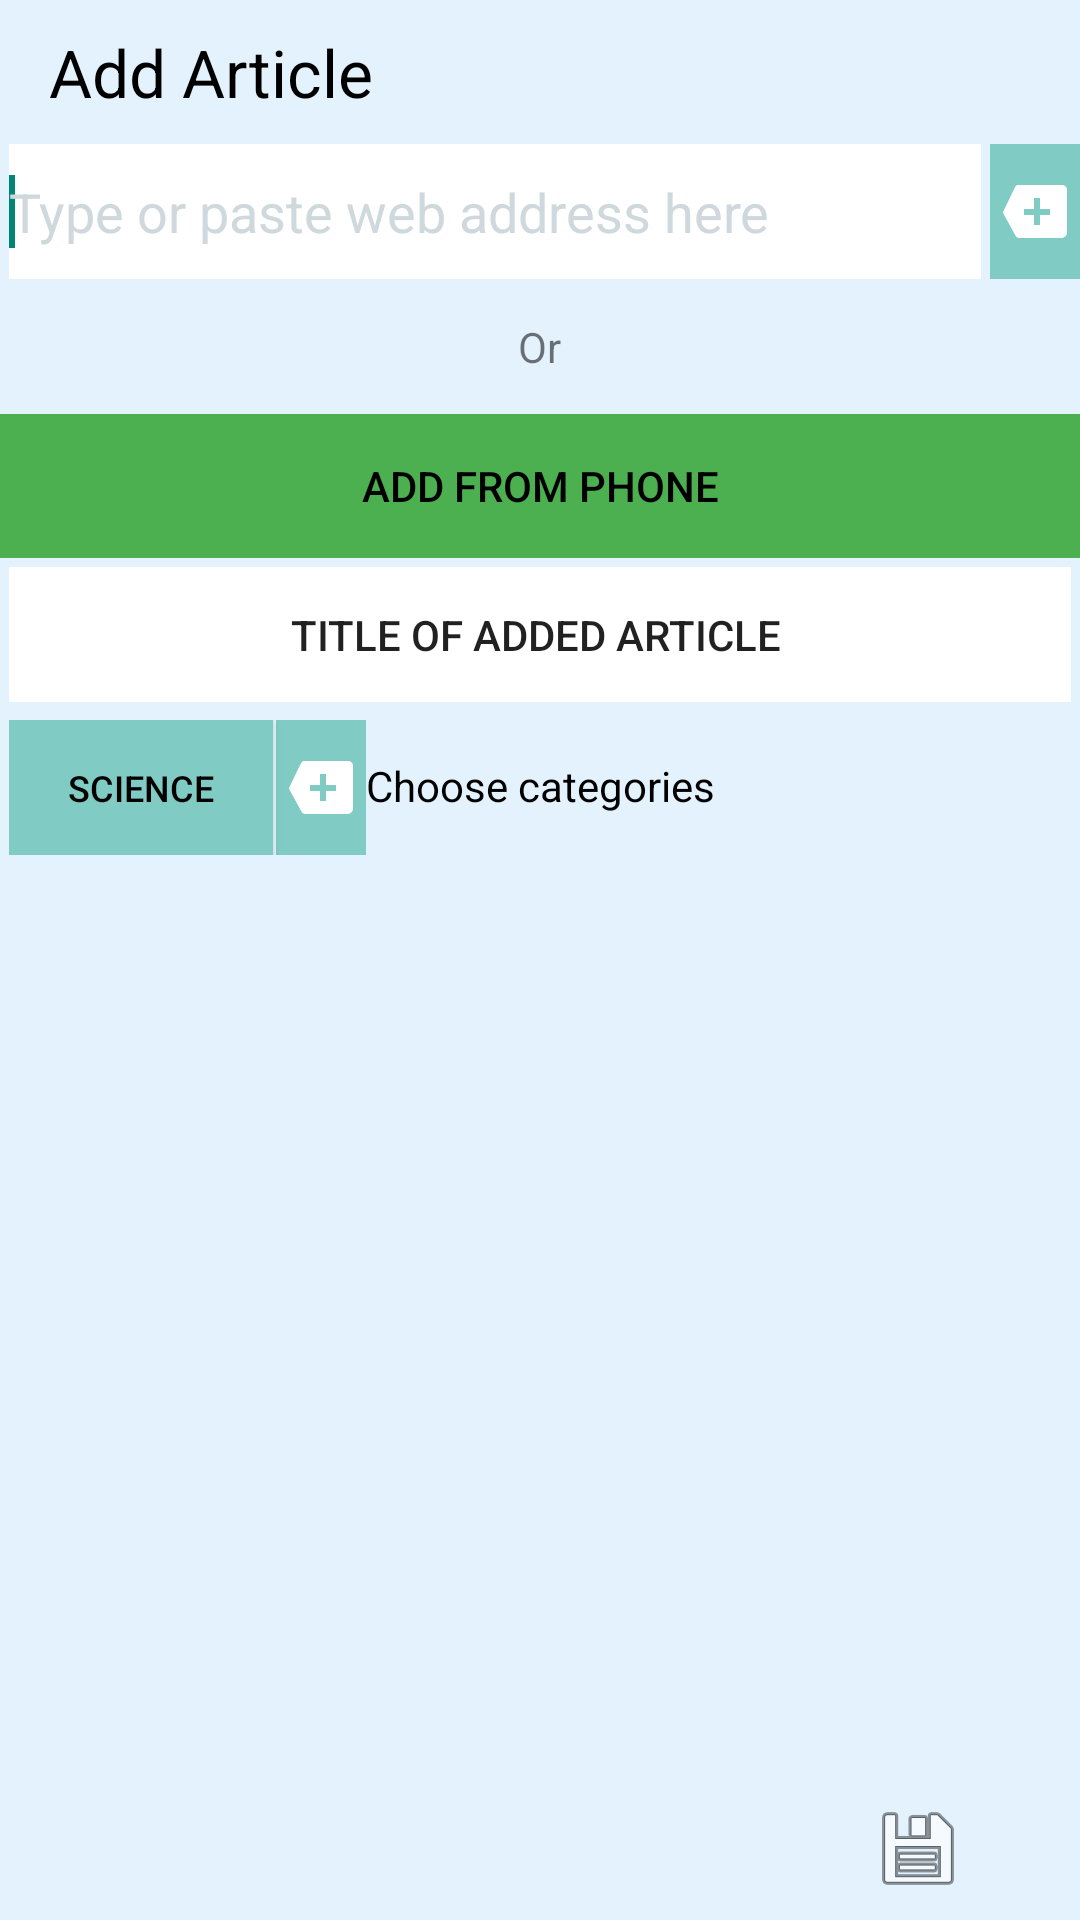

Icon bounding boxes for this 1080 x 1920 phone screenshot, format bbox(x1, y1, x2, y2):
save: bbox(882, 1812, 954, 1885)
